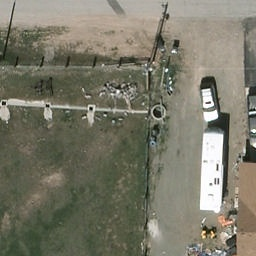camping car: (201, 131, 225, 212)
car: (196, 81, 222, 119)
